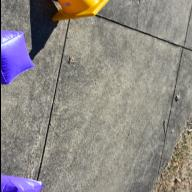cone: (51, 0, 108, 22)
cube: (0, 31, 35, 85), (0, 175, 44, 192)
